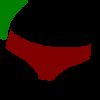abbigliamento: (0, 0, 28, 40)
mutande: (5, 28, 91, 81)
